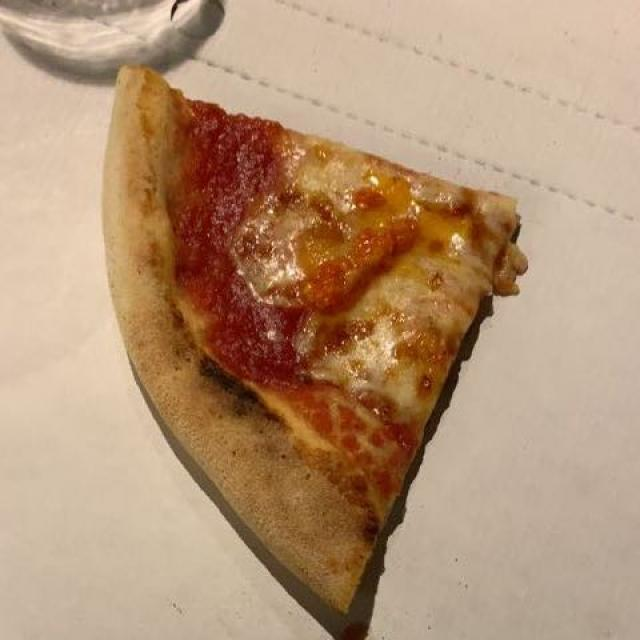pizza: (111, 82, 519, 602)
